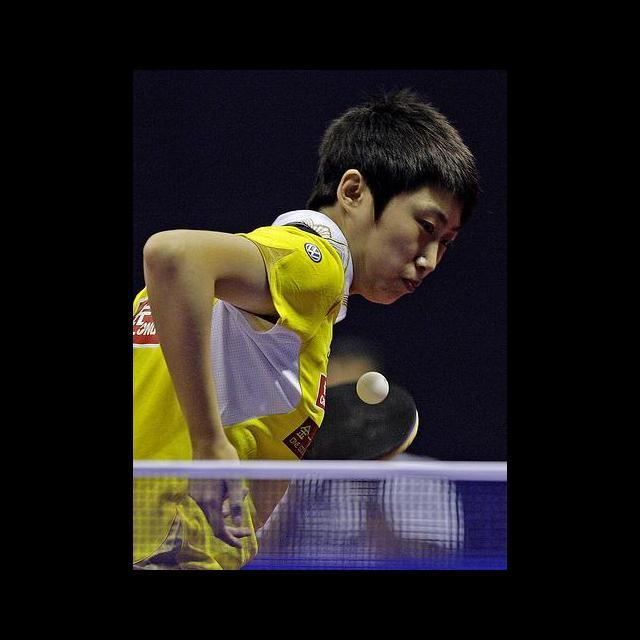ping-pong-ball: (354, 372, 390, 406)
